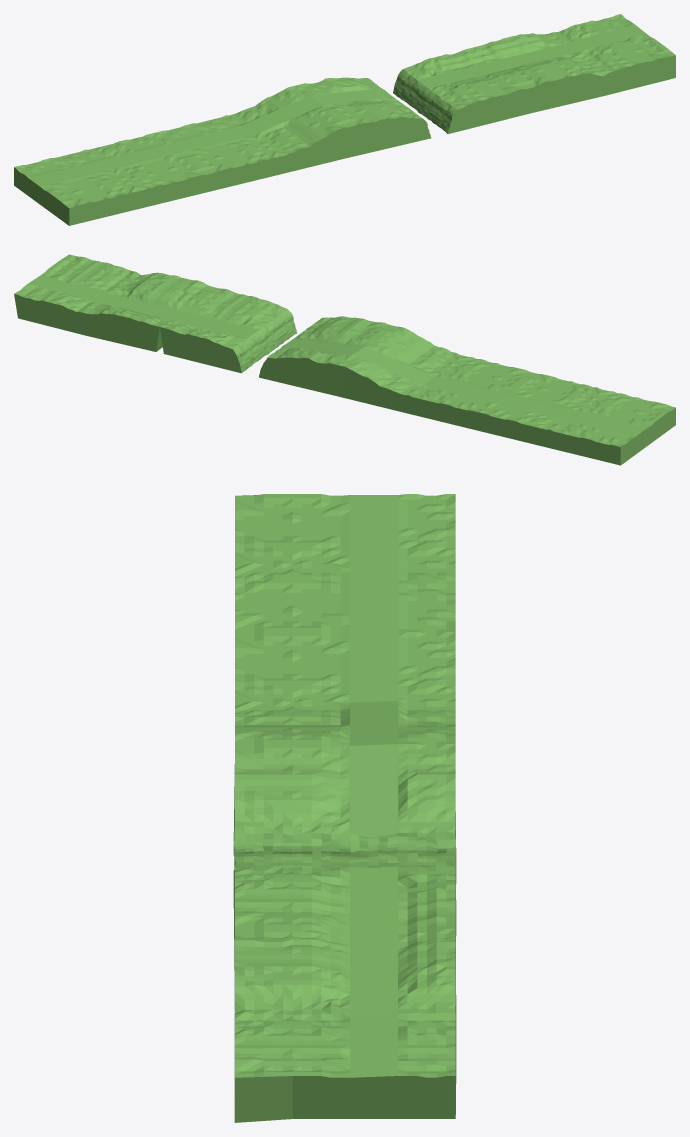
File: 중심들판_Island_A (1).fbx
3 views of the same model, one above another, from view 1: azimuth 30°, elevation 25°; view 2: azimuth 150°, elevation 25°; view 3: azimuth 270°, elevation 25° (orthographic). The views are drawn at different scales.
Visible parts, largest first — view 1: Island_A; view 2: Island_A; view 3: Island_A.
Part boxes in pixels (<box>): Island_A: <box>14,14,675,225</box>; Island_A: <box>14,254,675,465</box>; Island_A: <box>233,494,456,1122</box>.
Bounding box in the file's own units: 3260 × 20486 × 1031.
